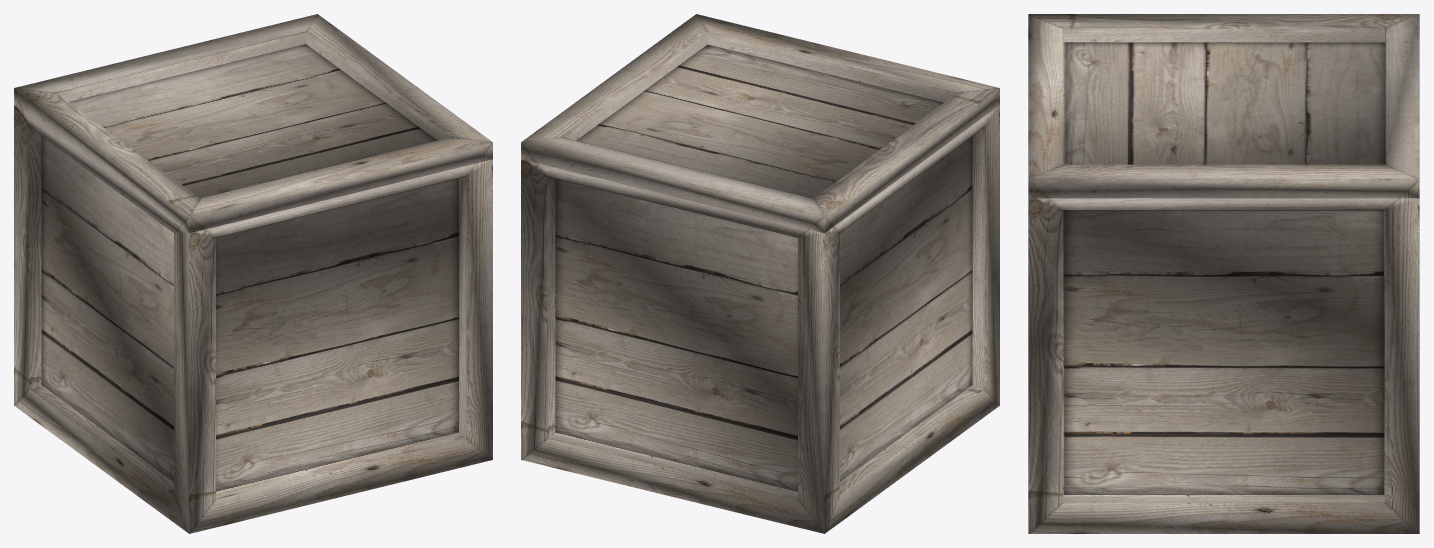
File: UseCrate3.fbx
The picture shows the model from 3 angles, left to right: view 1: azimuth 30°, elevation 25°; view 2: azimuth 150°, elevation 25°; view 3: azimuth 270°, elevation 25°; orthographic projection. The views are drawn at different scales.
Parts seen in each view (by area): view 1: Body, Cap; view 2: Body, Cap; view 3: Body, Cap.
Part boxes in pixels (bbox=[...]): Body: bbox=[14, 105, 492, 533]; Cap: bbox=[14, 14, 492, 233]; Body: bbox=[521, 105, 999, 533]; Cap: bbox=[521, 14, 999, 233]; Body: bbox=[1028, 198, 1419, 533]; Cap: bbox=[1028, 14, 1419, 198].
Bounding box in the file's own units: 12.5 × 12.5 × 12.5.
1 material, 1 textured.
